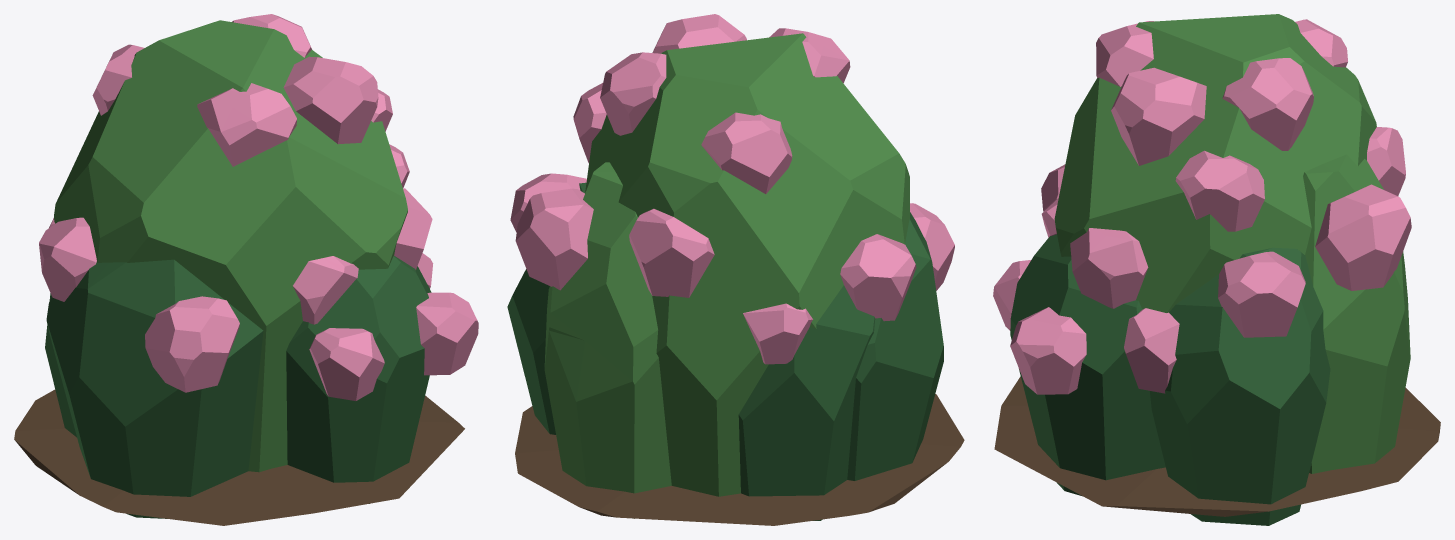
The model's file is asset.glb.
The picture shows the model from 3 angles, left to right: view 1: azimuth 30°, elevation 25°; view 2: azimuth 150°, elevation 25°; view 3: azimuth 270°, elevation 25°; orthographic projection.
Visible parts, largest first — view 1: leaves-0, leaves-1, leaves-3, soil, flower-12, flower-14, flower-9, flower-15, flower-8, flower-3, flower-0, flower-1 (+3 smaller); view 2: leaves-0, leaves-2, leaves-4, soil, leaves-1, flower-13, flower-2, flower-10, flower-3, leaves-5, flower-7, flower-4 (+5 smaller); view 3: leaves-0, leaves-5, leaves-2, leaves-3, soil, flower-13, flower-14, flower-5, flower-7, flower-8, flower-11, flower-1 (+6 smaller).
Boxes of the visible parts, x1,y1,x2,y2 form: leaves-0: [54, 20, 407, 472]; leaves-1: [46, 259, 263, 518]; leaves-3: [286, 256, 431, 503]; soil: [14, 389, 464, 525]; flower-12: [145, 296, 239, 392]; flower-14: [283, 56, 378, 144]; flower-9: [197, 83, 296, 166]; flower-15: [309, 328, 384, 400]; flower-8: [416, 292, 478, 375]; flower-3: [39, 217, 96, 301]; flower-0: [293, 256, 358, 324]; flower-1: [394, 188, 432, 269]; leaves-0: [585, 33, 909, 496]; leaves-2: [544, 162, 671, 518]; leaves-4: [738, 285, 875, 520]; soil: [515, 394, 964, 525]; leaves-1: [847, 212, 943, 480]; flower-13: [515, 188, 593, 290]; flower-2: [629, 208, 714, 297]; flower-10: [701, 112, 792, 193]; flower-3: [840, 234, 916, 321]; leaves-5: [507, 182, 586, 434]; flower-7: [600, 52, 666, 135]; flower-4: [743, 303, 812, 364]; leaves-0: [1054, 14, 1376, 312]; leaves-5: [1150, 247, 1330, 525]; leaves-2: [1303, 154, 1410, 473]; leaves-3: [1010, 234, 1165, 496]; soil: [994, 376, 1440, 516]; flower-13: [1315, 184, 1411, 290]; flower-14: [1111, 67, 1206, 165]; flower-5: [1218, 251, 1305, 337]; flower-7: [1222, 58, 1313, 150]; flower-8: [1010, 307, 1086, 394]; flower-11: [1175, 150, 1264, 231]; flower-1: [1070, 228, 1148, 308].
Bounding box in the file's own units: 0.9771 × 1 × 0.9944.
